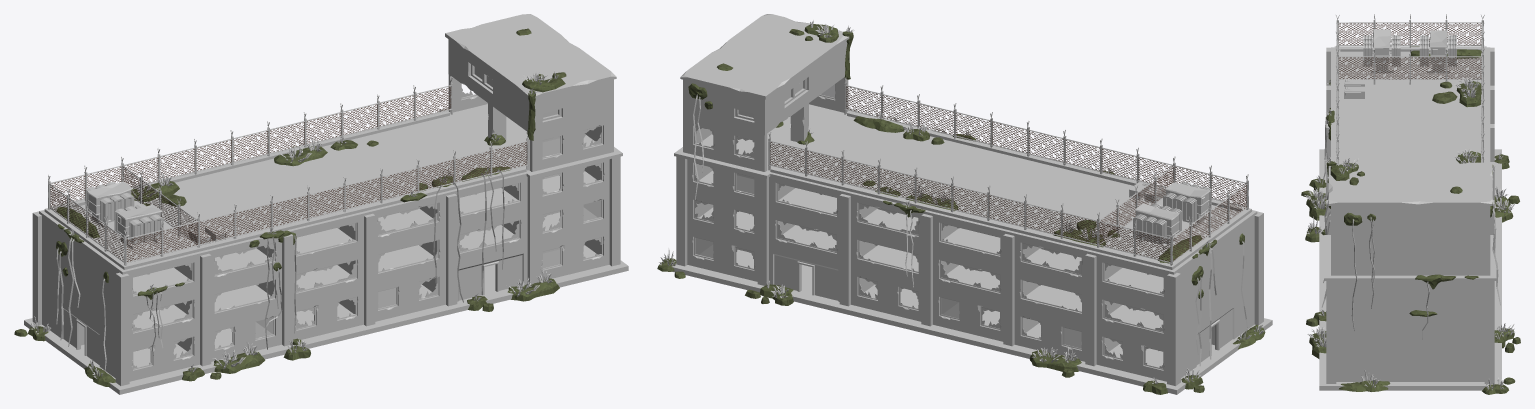
The model's file is SM_Bld_Industrial_Large_01.fbx.
The picture shows the model from 3 angles, left to right: view 1: azimuth 30°, elevation 25°; view 2: azimuth 150°, elevation 25°; view 3: azimuth 270°, elevation 25°; orthographic projection. The views are drawn at different scales.
Visible parts, largest first — view 1: SM_Bld_Industrial_Large_01; view 2: SM_Bld_Industrial_Large_01; view 3: SM_Bld_Industrial_Large_01.
Boxes of the visible parts, x1,y1,x2,y2 form: SM_Bld_Industrial_Large_01: [14, 14, 628, 394]; SM_Bld_Industrial_Large_01: [657, 14, 1272, 394]; SM_Bld_Industrial_Large_01: [1301, 14, 1520, 394].
Bounding box in the file's own units: 4567 × 1688 × 1690.
